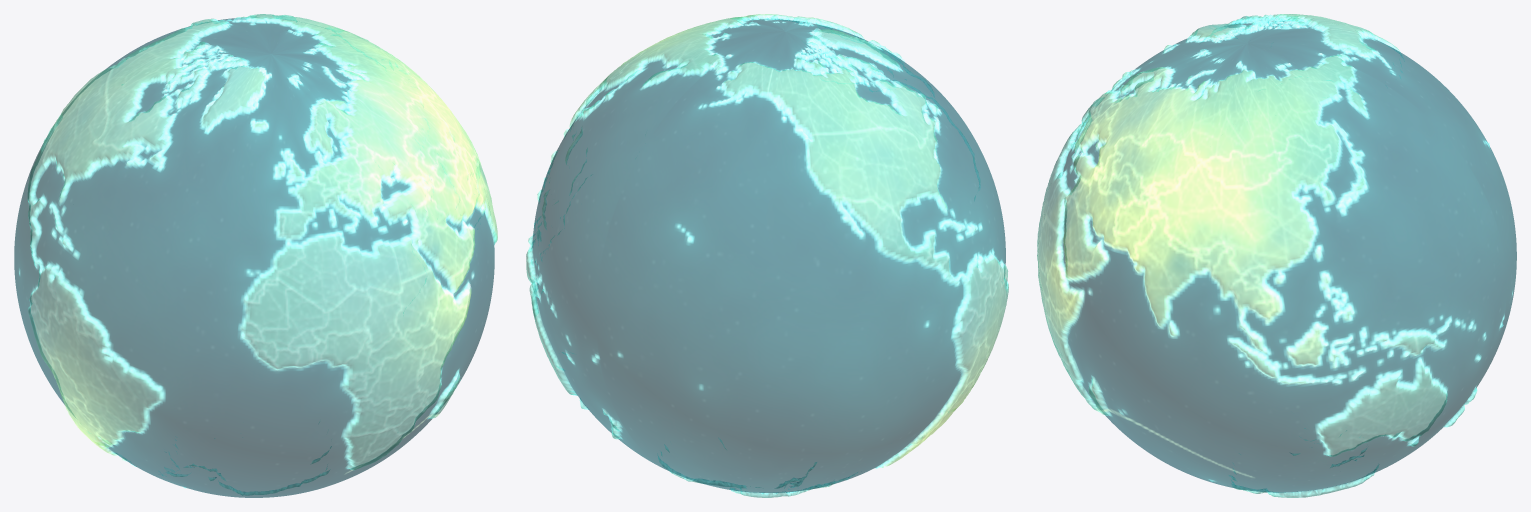
File: glass-earth.glb
3 views of the same model, side by side, from view 1: azimuth 30°, elevation 25°; view 2: azimuth 150°, elevation 25°; view 3: azimuth 270°, elevation 25° (orthographic).
Parts seen in each view (by area): view 1: GlassEarth; view 2: GlassEarth; view 3: GlassEarth.
Part boxes in pixels (bbox=[...]): GlassEarth: bbox=[14, 14, 497, 497]; GlassEarth: bbox=[526, 14, 1008, 497]; GlassEarth: bbox=[1037, 14, 1516, 497].
Bounding box in the file's own units: 2.05 × 2.03 × 2.03.
Materials: 1 (1 with a texture image).
